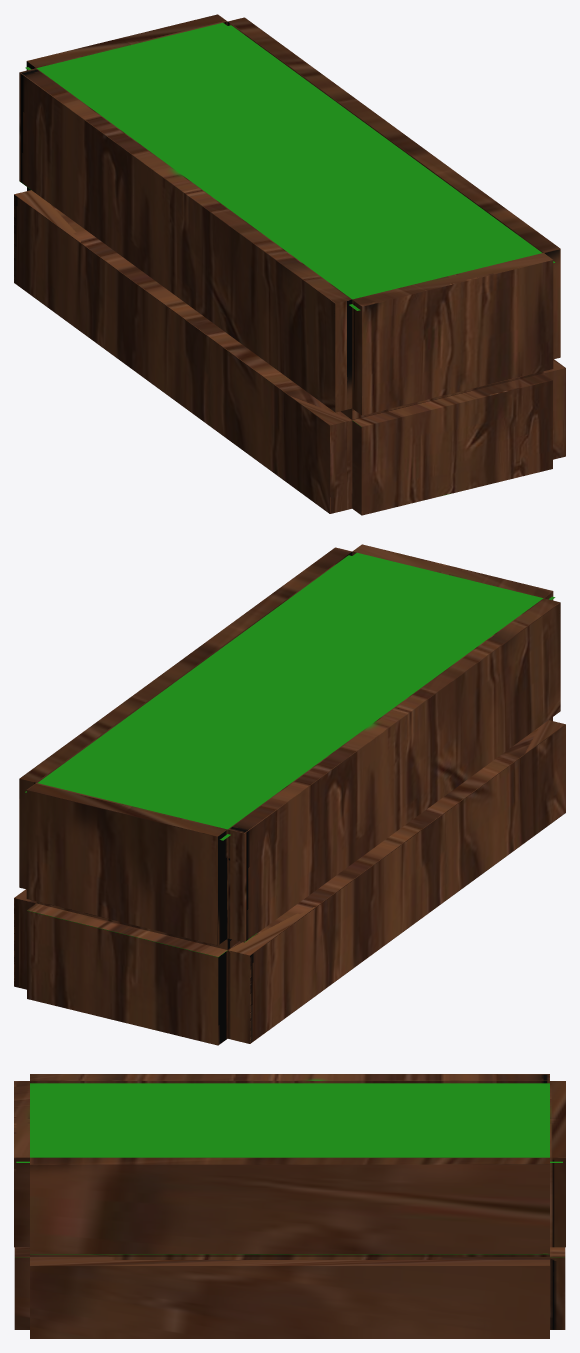
Rendered from Flowerpot.fbx.
3 renders of one model, top to bottom at view 1: azimuth 30°, elevation 25°; view 2: azimuth 150°, elevation 25°; view 3: azimuth 270°, elevation 25°, orthographic. The views are drawn at different scales.
Parts seen in each view (by area): view 1: Maceta; view 2: Maceta; view 3: Maceta.
Part boxes in pixels (x1,y1,x2,y2): Maceta: [14, 14, 565, 515]; Maceta: [14, 544, 565, 1045]; Maceta: [14, 1074, 565, 1338].
Size of the model in its own units: 86.27 by 73.06 by 212.
